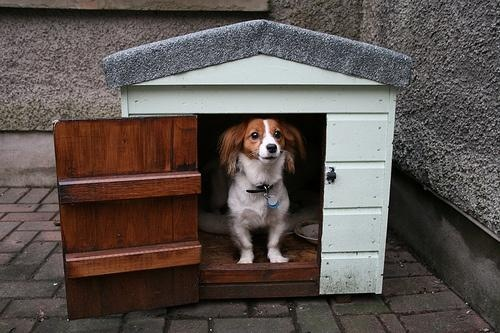dog: (217, 118, 305, 263)
